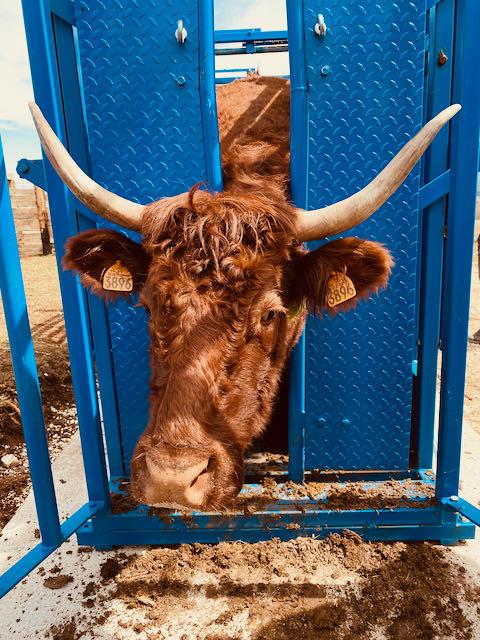muzzles: (121, 438, 248, 515)
